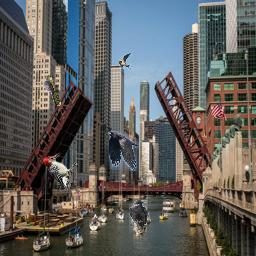Crow: (108, 131, 139, 171), (129, 200, 147, 233)
Cuckoo: (44, 75, 61, 106)
Swallow: (119, 53, 134, 69)
Woodpecker: (42, 152, 79, 192)
